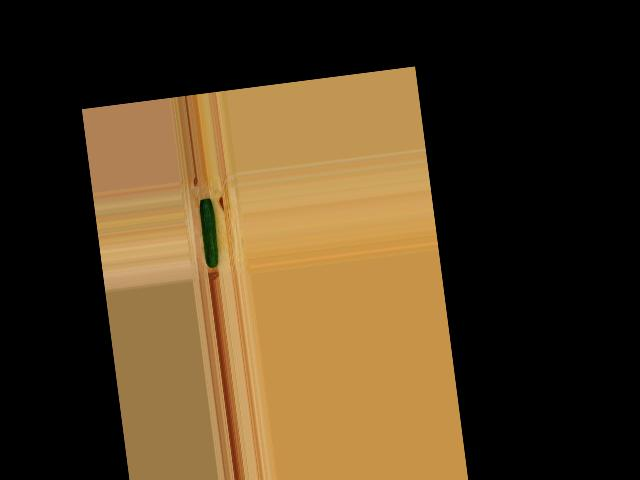cucumber: (198, 198, 220, 268)
